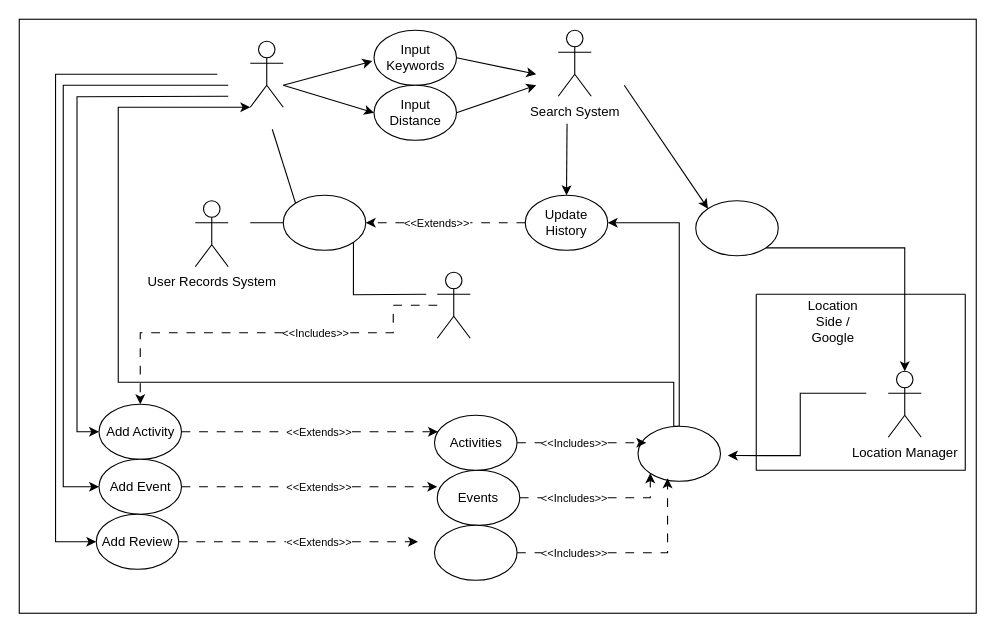
This 996x633 diagram has some shape labels left out. Each missing label, with the centre of its shape:
Admin: point (453, 304)
Get Location(s): point (736, 228)
Location Info: point (679, 453)
Reviews: point (475, 552)
User: point (266, 73)
User History: point (324, 222)
